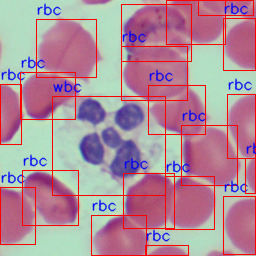rbc: (121, 4, 191, 61), (121, 46, 187, 100), (36, 19, 96, 77), (181, 125, 237, 185), (22, 170, 78, 225), (123, 173, 174, 228), (148, 85, 205, 134), (165, 176, 214, 229), (166, 0, 225, 44), (20, 72, 75, 119), (91, 215, 146, 255), (0, 187, 35, 244), (223, 196, 255, 254), (227, 94, 255, 158), (223, 18, 255, 70), (0, 84, 21, 144), (198, 0, 253, 15), (145, 245, 188, 255), (245, 158, 255, 193)
wbc: (52, 96, 165, 195)
